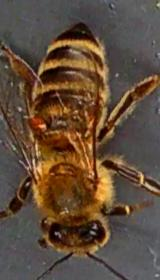varroa_mite: (22, 110, 51, 136)
